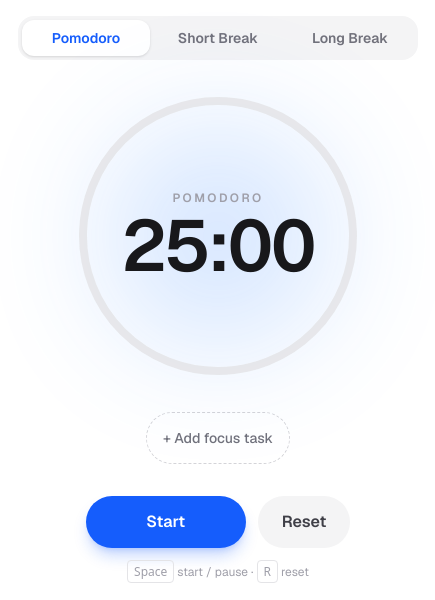
Test: Timer component › task editing › Save button submits task input
This screenshot has width=435, height=600.
Step 1. Click the button "+ Add focus task" → coordinates (218, 438), box [146,412,290,464]
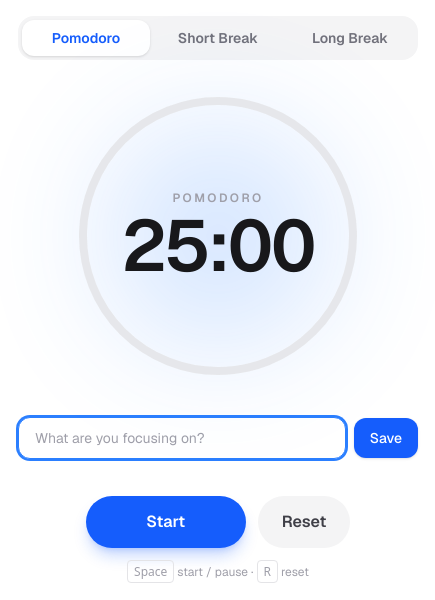
Step 2. Type "My Task" into the field with placeholder "What are you focusing on?" → coordinates (182, 438), box [18,417,346,459]
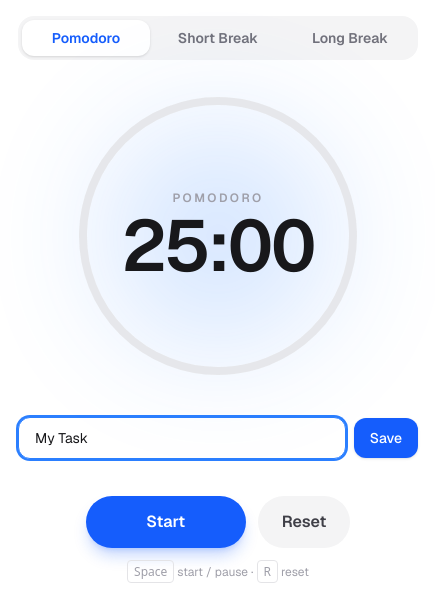
Step 3. Click the button "Save" → coordinates (386, 438), box [354,418,418,458]
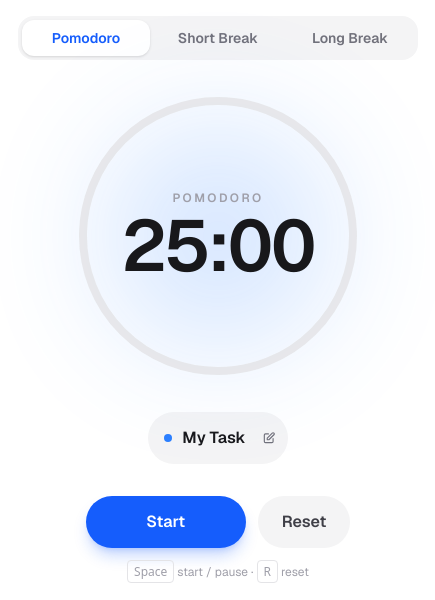
Expected: the text "My Task" is shown, [182,426,246,450]
